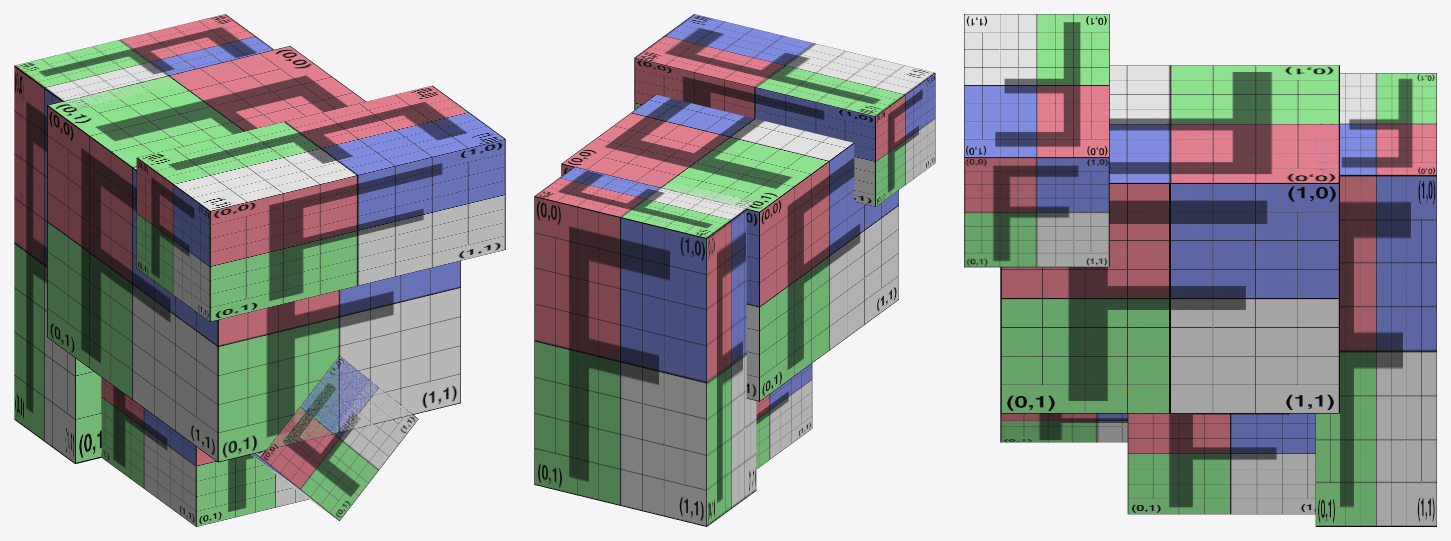
Rendered from mochila.glb.
The picture shows the model from 3 angles, left to right: view 1: azimuth 30°, elevation 25°; view 2: azimuth 150°, elevation 25°; view 3: azimuth 270°, elevation 25°; orthographic projection. The views are drawn at different scales.
Visible parts, largest first — view 1: models\items\backpack\backpack_inventory.vmdl_c.middle, models\items\backpack\backpack_inventory.vmdl_c.topsmall, models\items\backpack\backpack_inventory.vmdl_c.back, models\items\backpack\backpack_inventory.vmdl_c.bottomfront, models\items\backpack\backpack_inventory.vmdl_c.bottomback; view 2: models\items\backpack\backpack_inventory.vmdl_c.back, models\items\backpack\backpack_inventory.vmdl_c.middle, models\items\backpack\backpack_inventory.vmdl_c.topsmall, models\items\backpack\backpack_inventory.vmdl_c.bottomback; view 3: models\items\backpack\backpack_inventory.vmdl_c.middle, models\items\backpack\backpack_inventory.vmdl_c.back, models\items\backpack\backpack_inventory.vmdl_c.topsmall, models\items\backpack\backpack_inventory.vmdl_c.bottomback, models\items\backpack\backpack_inventory.vmdl_c.bottomfront.
Boxes of the visible parts, left/top/right/bottom form: models\items\backpack\backpack_inventory.vmdl_c.middle: left=47, top=46, right=460, bottom=462; models\items\backpack\backpack_inventory.vmdl_c.topsmall: left=136, top=85, right=505, bottom=321; models\items\backpack\backpack_inventory.vmdl_c.back: left=14, top=14, right=278, bottom=463; models\items\backpack\backpack_inventory.vmdl_c.bottomfront: left=251, top=356, right=418, bottom=520; models\items\backpack\backpack_inventory.vmdl_c.bottomback: left=101, top=378, right=308, bottom=526; models\items\backpack\backpack_inventory.vmdl_c.back: left=534, top=167, right=756, bottom=526; models\items\backpack\backpack_inventory.vmdl_c.middle: left=561, top=94, right=898, bottom=401; models\items\backpack\backpack_inventory.vmdl_c.topsmall: left=634, top=14, right=935, bottom=206; models\items\backpack\backpack_inventory.vmdl_c.bottomback: left=756, top=363, right=812, bottom=468; models\items\backpack\backpack_inventory.vmdl_c.middle: left=1000, top=65, right=1339, bottom=413; models\items\backpack\backpack_inventory.vmdl_c.back: left=1315, top=73, right=1436, bottom=526; models\items\backpack\backpack_inventory.vmdl_c.topsmall: left=964, top=14, right=1109, bottom=267; models\items\backpack\backpack_inventory.vmdl_c.bottomback: left=1127, top=413, right=1315, bottom=514; models\items\backpack\backpack_inventory.vmdl_c.bottomfront: left=1000, top=413, right=1127, bottom=442.
Bounding box in the file's own units: 0.7112 × 0.9017 × 0.9906.
Materials: 1 (1 with a texture image).
